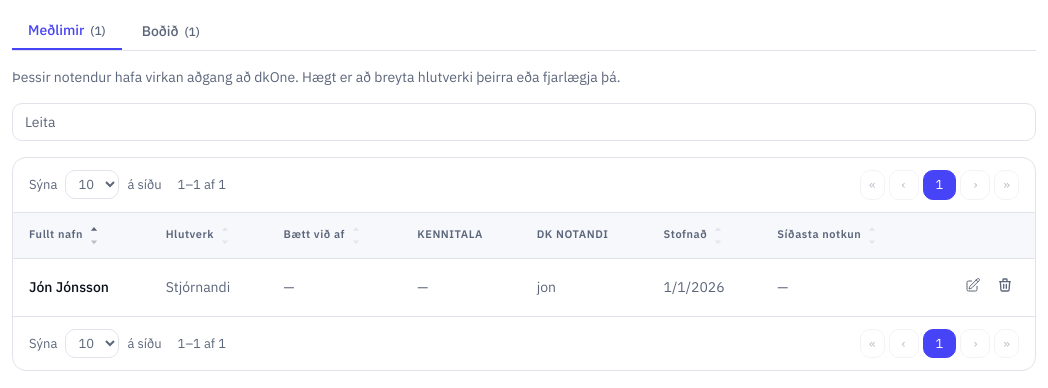
Test: DkOneUserTable › shows confirm dialog when remove button is clicked
Click the button titled "Fjarlægja": (1005, 284) [991,270,1019,298]
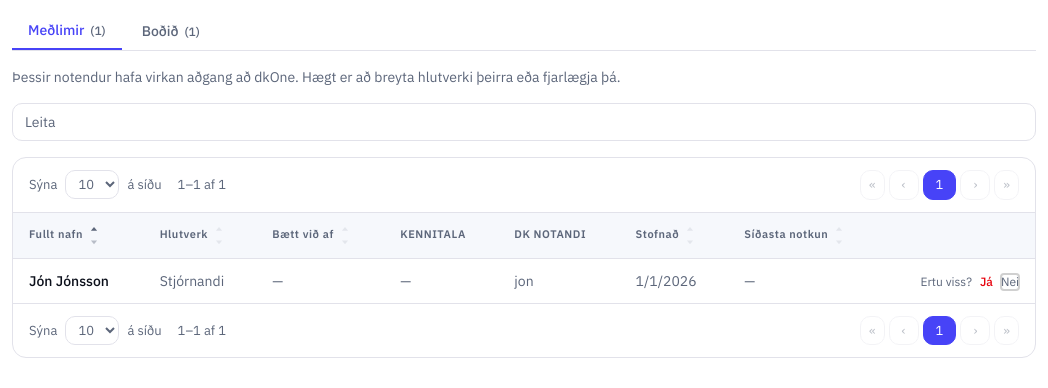
expect the text "Ertu viss?" is shown: met, box [920,274,972,290]
